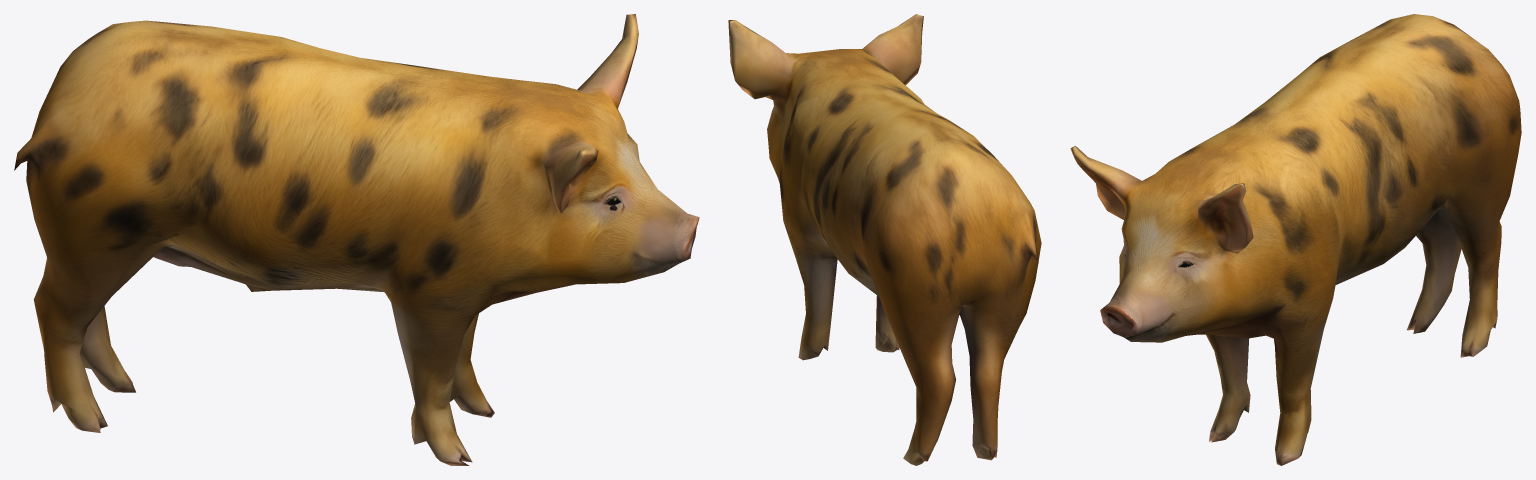
Rendered from pig_warm_single_1500.glb.
3 views of the same model, side by side, from view 1: azimuth 30°, elevation 25°; view 2: azimuth 150°, elevation 25°; view 3: azimuth 270°, elevation 25° (orthographic). The views are drawn at different scales.
Bounding box in the file's own units: 0.8809 × 0.6545 × 0.7937.
1 material, 1 textured.
